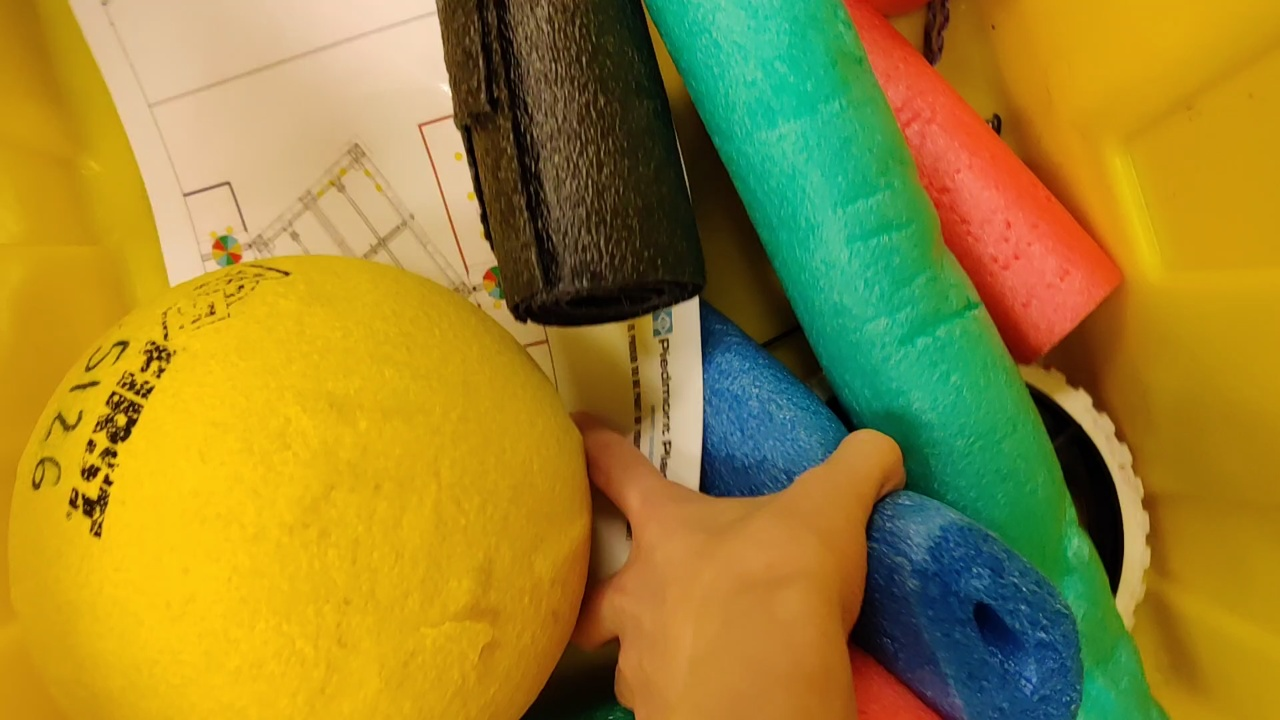Ball: (10, 255, 588, 720)
